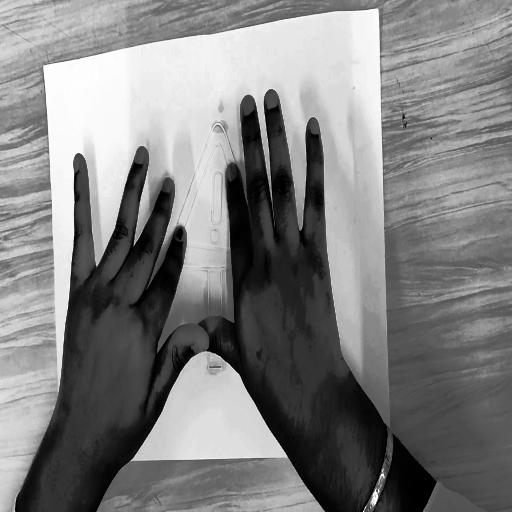bottom_left: (56, 454, 65, 470)
bottom_right: (386, 439, 394, 454)
signboard: (160, 108, 276, 386)
top_left: (39, 55, 49, 75)
top_right: (372, 1, 383, 17)
